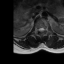CCS_normal: (40, 26, 42, 33)
LFS_normal: (44, 26, 46, 32)
LLS_normal: (42, 26, 44, 32)
RFS_normal: (36, 26, 38, 33)
RLS_normal: (38, 26, 40, 33)
